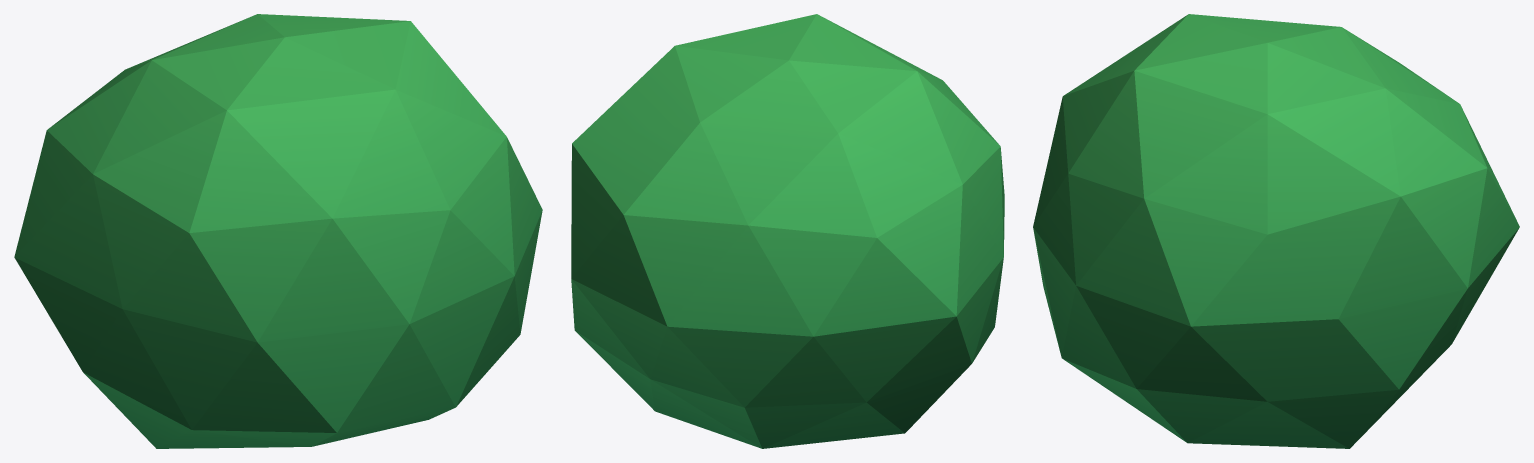
File: arbusto_A.glb
The picture shows the model from 3 angles, left to right: view 1: azimuth 30°, elevation 25°; view 2: azimuth 150°, elevation 25°; view 3: azimuth 270°, elevation 25°; orthographic projection. The views are drawn at different scales.
Parts seen in each view (by area): view 1: arbusto_A; view 2: arbusto_A; view 3: arbusto_A.
Boxes of the visible parts, x1,y1,x2,y2 form: arbusto_A: [14, 14, 542, 448]; arbusto_A: [571, 14, 1004, 448]; arbusto_A: [1033, 14, 1519, 448].
Bounding box in the file's own units: 0.7051 × 0.6 × 0.7102.
1 material, 1 textured.
